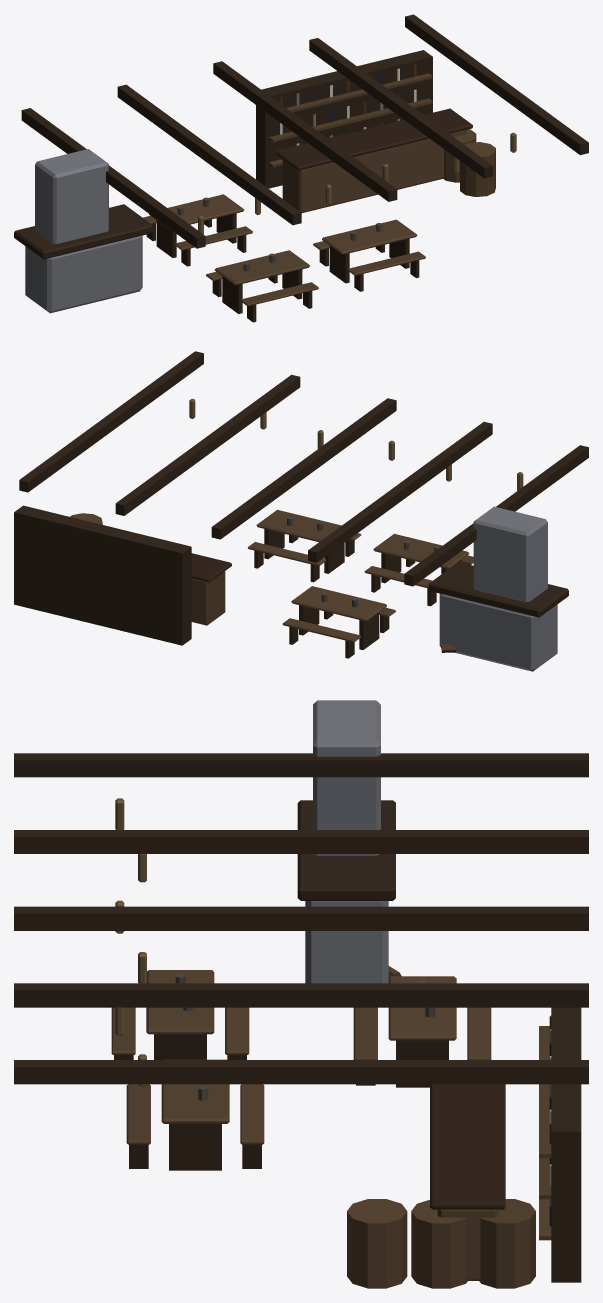
The model's file is village_tavern_interior.glb.
3 renders of one model, top to bottom at view 1: azimuth 30°, elevation 25°; view 2: azimuth 150°, elevation 25°; view 3: azimuth 270°, elevation 25°, orthographic. The views are drawn at different scales.
Visible parts, largest first — view 1: village_tavern_interior; view 2: village_tavern_interior; view 3: village_tavern_interior.
Part boxes in pixels (box(x1,y1,x2,y2)): village_tavern_interior: box(14, 14, 588, 322); village_tavern_interior: box(14, 351, 588, 671); village_tavern_interior: box(14, 700, 588, 1288).
Bounding box in the file's own units: 11.88 × 3.25 × 7.6.
